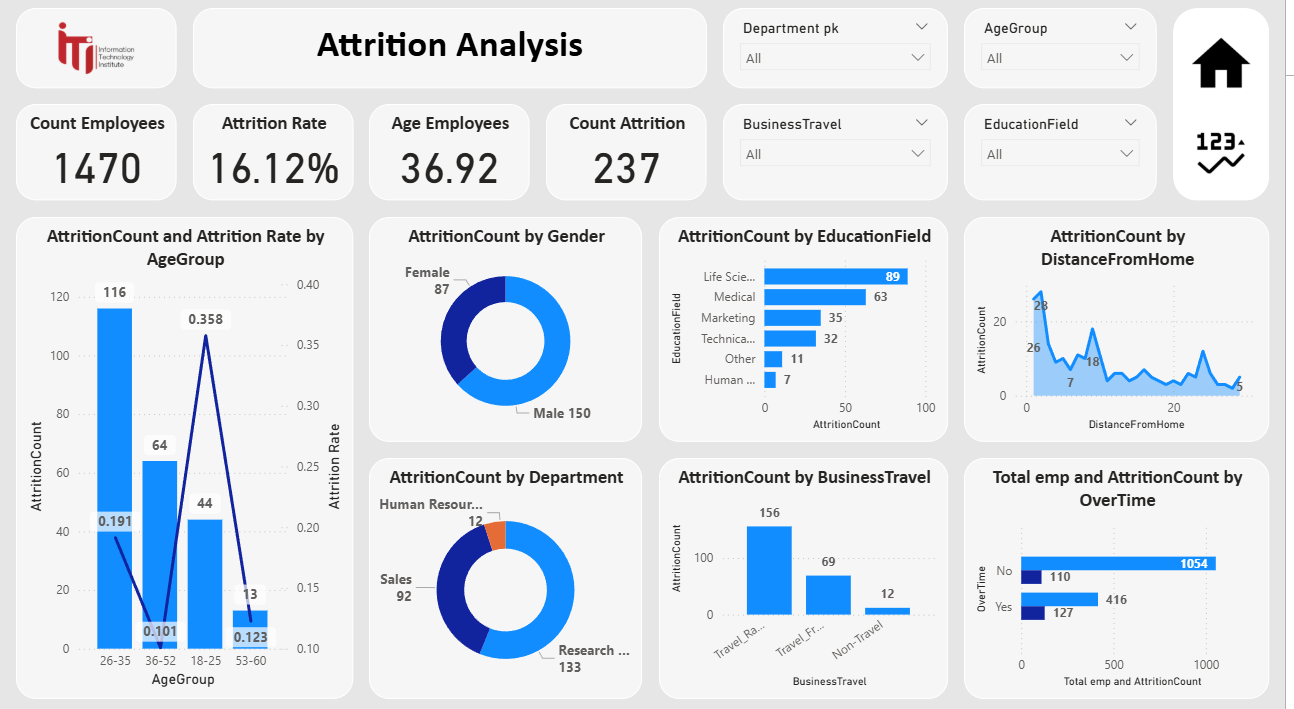

Layout of this report page (visuals, bound fields, positions):
{"tool":"powerbi","page":{"name":"Page 2","canvas":[1280,720],"ordinal":1},"visuals":[{"type":"textbox","box":[192,16,512,80],"z":0},{"type":"image","box":[16,16,160,80],"z":1000},{"type":"card","title":"Count Employees","fields":{"Values":["Table.Total emp"]},"box":[16,112,160,96],"z":2000},{"type":"card","title":"Count Attrition","fields":{"Values":["Table.AttritionCount"]},"box":[544,112,160,96],"z":3000},{"type":"card","title":"Attrition Rate","fields":{"Values":["Table.Attrition Rate"]},"box":[192,112,160,96],"z":4000},{"type":"card","title":"Age Employees","fields":{"Values":["Avg(Dim_emp.Age)"]},"box":[368,112,160,96],"z":5000},{"type":"donutChart","fields":{"Category":["Fact.Department"],"Y":["Table.AttritionCount"]},"box":[368,464,272,240],"z":6000},{"type":"barChart","fields":{"Category":["Fact.EducationField"],"Y":["Table.AttritionCount"]},"box":[656,224,288,224],"z":7000},{"type":"lineStackedColumnComboChart","fields":{"Category":["Dim_emp.AgeGroup"],"Y":["Table.AttritionCount"],"Y2":["Table.Attrition Rate"]},"box":[16,224,336,480],"z":8000},{"type":"donutChart","fields":{"Category":["Dim_emp.Gender"],"Y":["Table.AttritionCount"]},"box":[368,224,272,224],"z":9000},{"type":"stackedAreaChart","fields":{"Category":["Fact.DistanceFromHome"],"Y":["Table.AttritionCount"]},"box":[960,224,304,224],"z":10000},{"type":"columnChart","fields":{"Category":["Fact.BusinessTravel"],"Y":["Table.AttritionCount"]},"box":[656,464,288,240],"z":11000},{"type":"clusteredBarChart","fields":{"Category":["Fact.OverTime"],"Y":["Table.Total emp","Table.AttritionCount"]},"box":[960,464,304,240],"z":12000},{"type":"slicer","fields":{"Values":["Dim_Department.Department pk"]},"box":[720,16,224,80],"z":13000},{"type":"slicer","fields":{"Values":["Dim_emp.AgeGroup"]},"box":[960,16,192,80],"z":14000},{"type":"slicer","fields":{"Values":["Fact.BusinessTravel"]},"box":[720,112,224,96],"z":15000},{"type":"slicer","fields":{"Values":["Dim_emp.EducationField"]},"box":[960,112,192,96],"z":16000},{"type":"shape","box":[1168,16,96,192],"z":17000},{"type":"image","box":[1168,32,96,80],"z":18000},{"type":"image","box":[1184,128,64,64],"z":19000}]}

Visuals, with their boxes in screenshot pixels (x1, y1, x2, y2), scaled from the page's 1280x720 canvas onto the 1294x709 screenshot:
textbox: rect(194, 16, 712, 95)
image: rect(16, 16, 178, 95)
"Count Employees" card: rect(16, 110, 178, 205)
"Count Attrition" card: rect(550, 110, 712, 205)
"Attrition Rate" card: rect(194, 110, 356, 205)
"Age Employees" card: rect(372, 110, 534, 205)
donutChart - Fact.Department x Table.AttritionCount: rect(372, 457, 647, 693)
barChart - Fact.EducationField x Table.AttritionCount: rect(663, 221, 954, 441)
lineStackedColumnComboChart - Dim_emp.AgeGroup x Table.AttritionCount: rect(16, 221, 356, 693)
donutChart - Dim_emp.Gender x Table.AttritionCount: rect(372, 221, 647, 441)
stackedAreaChart - Fact.DistanceFromHome x Table.AttritionCount: rect(970, 221, 1278, 441)
columnChart - Fact.BusinessTravel x Table.AttritionCount: rect(663, 457, 954, 693)
clusteredBarChart - Fact.OverTime x Table.Total emp: rect(970, 457, 1278, 693)
slicer - Dim_Department.Department pk: rect(728, 16, 954, 95)
slicer - Dim_emp.AgeGroup: rect(970, 16, 1165, 95)
slicer - Fact.BusinessTravel: rect(728, 110, 954, 205)
slicer - Dim_emp.EducationField: rect(970, 110, 1165, 205)
shape: rect(1181, 16, 1278, 205)
image: rect(1181, 32, 1278, 110)
image: rect(1197, 126, 1262, 189)
